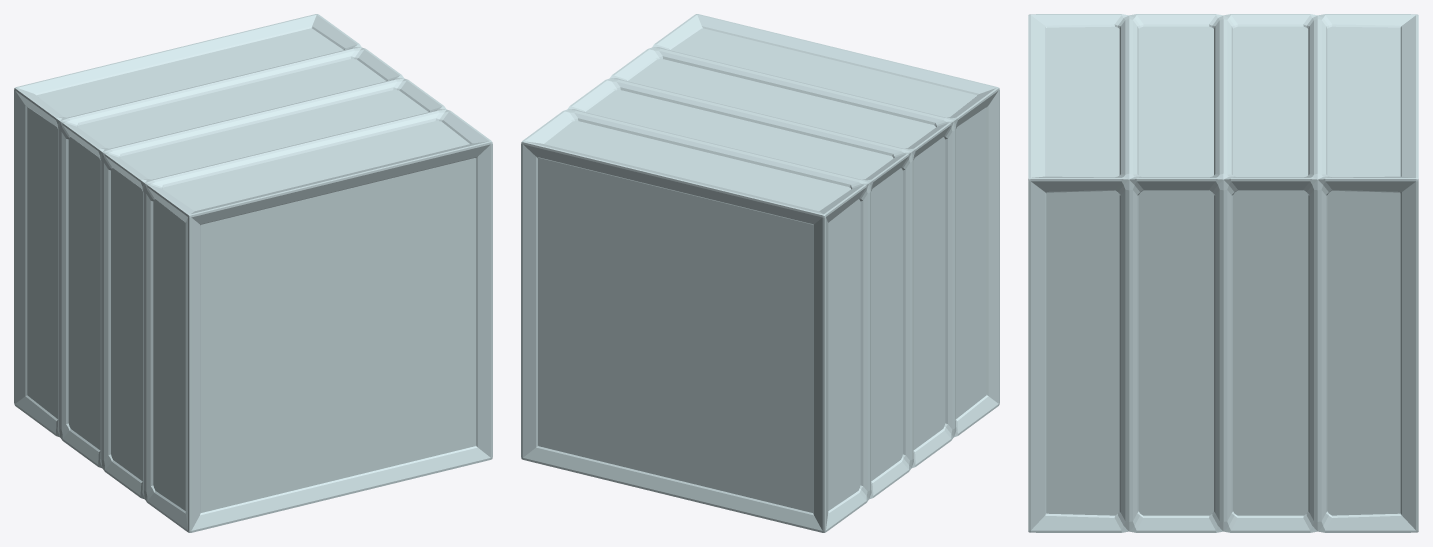
3 views of the same model, side by side, from view 1: azimuth 30°, elevation 25°; view 2: azimuth 150°, elevation 25°; view 3: azimuth 270°, elevation 25° (orthographic). The views are drawn at different scales.
Visible parts, largest first — view 1: Cube_6; view 2: Cube_6; view 3: Cube_6.
Boxes of the visible parts, box(x1,y1,x2,y2) form: Cube_6: box(14, 14, 492, 532); Cube_6: box(521, 14, 999, 532); Cube_6: box(1028, 14, 1418, 532).
Bounding box in the file's own units: 1.04 × 1.04 × 1.04.
